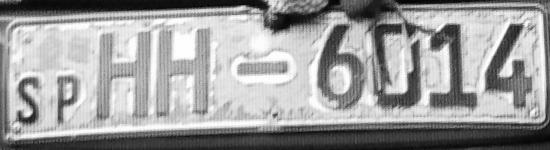-: (236, 56, 290, 83)
0: (366, 18, 426, 116)
1: (424, 14, 480, 114)
4: (479, 13, 535, 115)
6: (303, 20, 369, 112)
H: (154, 25, 218, 123), (94, 29, 153, 122)
P: (51, 66, 86, 126)
S: (12, 68, 45, 130)
